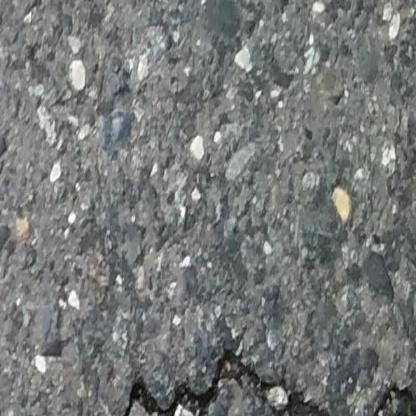Cracks: (107, 351, 347, 416), (365, 382, 416, 416)
